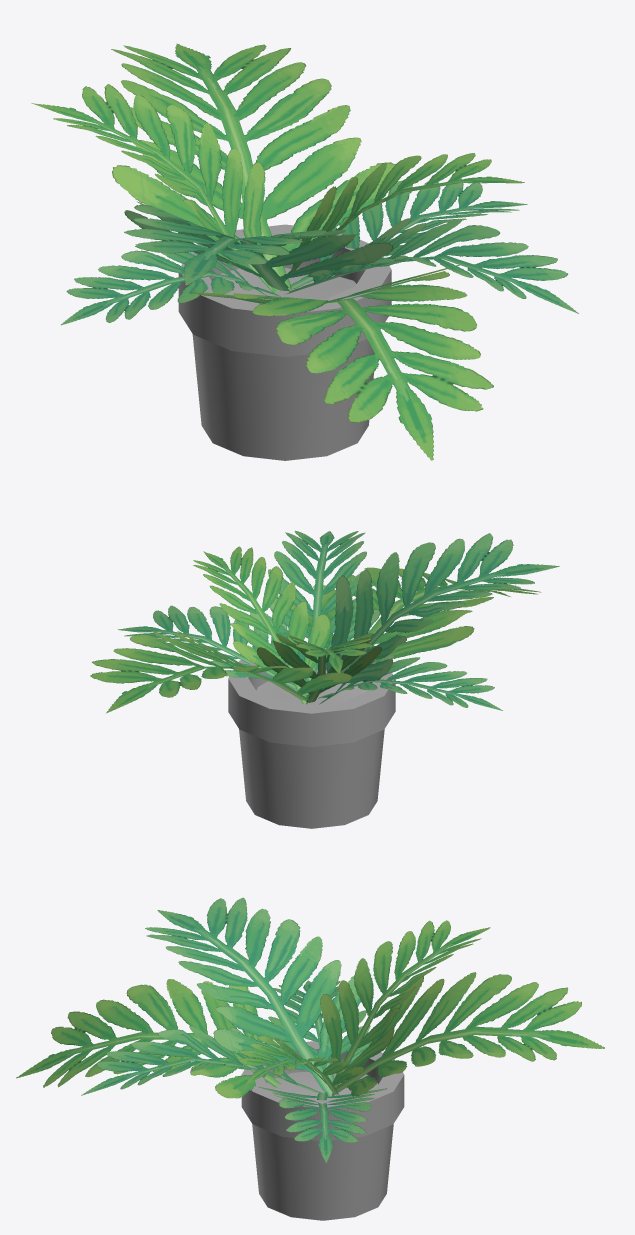
The model's file is Plant test.fbx.
3 renders of one model, top to bottom at view 1: azimuth 30°, elevation 25°; view 2: azimuth 150°, elevation 25°; view 3: azimuth 270°, elevation 25°, orthographic. The views are drawn at different scales.
Parts seen in each view (by area): view 1: pasted__pasted__pPlane1 (×2), pCylinder1, pasted__pasted__pasted__pPlane3, pasted__pasted__pasted__pPlane2 (×2), pasted__pasted__pasted__pPlane1 (×2), pasted__pasted__pasted__pasted__pasted__pPlane1 (×2), pasted__pasted__pasted__pasted__pPlane1 (×2), pasted__pPlane1, pasted__pasted__pPlane3, pasted__pasted__pasted__pasted__pPlane2, pasted__pasted__pasted__pasted__pasted__pasted__pPlane1, pasted__pasted__pPlane2 (+1 smaller); view 2: pCylinder1, pasted__pasted__pasted__pPlane1 (×2), pasted__pasted__pPlane1 (×2), pasted__pasted__pasted__pasted__pPlane2, pasted__pasted__pasted__pasted__pasted__pPlane1 (×2), pasted__pasted__pasted__pPlane2 (×2), pasted__pasted__pasted__pasted__pPlane1 (×2), pasted__pasted__pasted__pPlane3, pasted__pasted__pasted__pasted__pasted__pasted__pPlane1, pasted__pPlane1, pasted__pasted__pPlane3, pPlane2 (+1 smaller); view 3: pasted__pasted__pPlane1 (×2), pCylinder1, pasted__pasted__pasted__pPlane1, pasted__pasted__pasted__pPlane3, pasted__pasted__pasted__pPlane2 (×2), pasted__pasted__pasted__pasted__pasted__pPlane1 (×2), pasted__pasted__pasted__pasted__pasted__pasted__pPlane1, pasted__pPlane1, pasted__pasted__pPlane3, pasted__pasted__pasted__pasted__pPlane1 (×2), pasted__pasted__pasted__pasted__pPlane2, pasted__pasted__pPlane2 (+1 smaller).
Boxes of the visible parts, x1,y1,x2,y2 form: pasted__pasted__pPlane1 (×2): (111,43,396,292); pCylinder1: (178,224,391,460); pasted__pasted__pasted__pPlane3: (190,265,493,460); pasted__pasted__pasted__pPlane2 (×2): (31,84,518,292); pasted__pasted__pasted__pPlane1 (×2): (64,201,393,323); pasted__pasted__pasted__pasted__pasted__pPlane1 (×2): (285,179,578,313); pasted__pasted__pasted__pasted__pPlane1 (×2): (61,218,578,325); pasted__pPlane1: (112,44,394,291); pasted__pasted__pPlane3: (195,269,492,456); pasted__pasted__pasted__pasted__pPlane2: (283,153,524,281); pasted__pasted__pasted__pasted__pasted__pasted__pPlane1: (290,178,527,288); pasted__pasted__pPlane2: (35,85,273,292); pCylinder1: (228,648,395,828); pasted__pasted__pasted__pPlane1 (×2): (306,533,559,708); pasted__pasted__pPlane1 (×2): (90,539,554,713); pasted__pasted__pasted__pasted__pPlane2: (193,546,330,704); pasted__pasted__pasted__pasted__pasted__pPlane1 (×2): (123,530,379,695); pasted__pasted__pasted__pPlane2 (×2): (194,547,381,702); pasted__pasted__pasted__pasted__pPlane1 (×2): (251,531,502,710); pasted__pasted__pasted__pPlane3: (277,567,541,683); pasted__pasted__pasted__pasted__pasted__pasted__pPlane1: (118,605,306,693); pasted__pPlane1: (91,631,350,711); pasted__pasted__pPlane3: (279,567,536,660); pPlane2: (256,669,367,704); pasted__pasted__pPlane1 (×2): (147,898,604,1096); pCylinder1: (241,1041,404,1220); pasted__pasted__pasted__pPlane1: (145,897,361,1096); pasted__pasted__pasted__pPlane3: (16,979,280,1098); pasted__pasted__pasted__pPlane2 (×2): (239,920,490,1094); pasted__pasted__pasted__pasted__pasted__pPlane1 (×2): (81,1026,384,1159); pasted__pasted__pasted__pasted__pasted__pasted__pPlane1: (259,1087,386,1162); pasted__pPlane1: (333,972,601,1095); pasted__pasted__pPlane3: (17,980,277,1098); pasted__pasted__pasted__pasted__pPlane1 (×2): (86,980,371,1093); pasted__pasted__pasted__pasted__pPlane2: (238,1034,364,1094); pasted__pasted__pPlane2: (320,921,488,1087).
Bounding box in the file's own units: 13.04 × 7.22 × 16.79.
